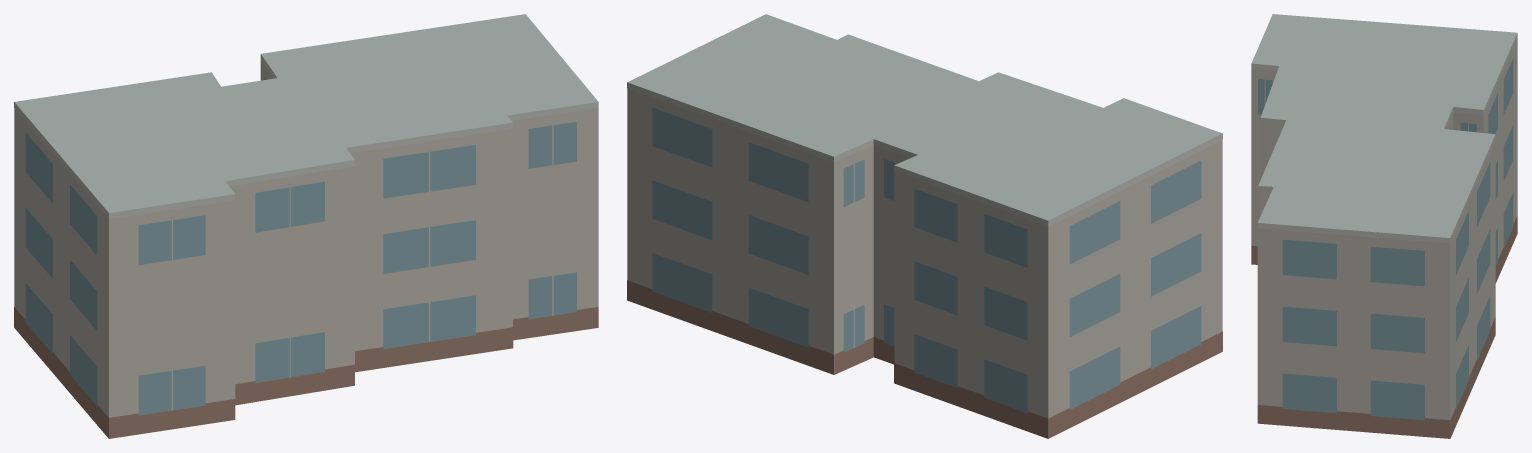
File: survey-upis-32870353.glb
The picture shows the model from 3 angles, left to right: view 1: azimuth 30°, elevation 25°; view 2: azimuth 150°, elevation 25°; view 3: azimuth 270°, elevation 25°; orthographic projection. The views are drawn at different scales.
Visible parts, largest first — view 1: survey-upis-32870353.tmp; view 2: survey-upis-32870353.tmp; view 3: survey-upis-32870353.tmp.
Part boxes in pixels (x1,y1,x2,y2): survey-upis-32870353.tmp: (14,14,598,438); survey-upis-32870353.tmp: (627,14,1222,438); survey-upis-32870353.tmp: (1251,14,1517,438).
Size of the model in its own units: 21.8 by 9.1 by 10.95.
